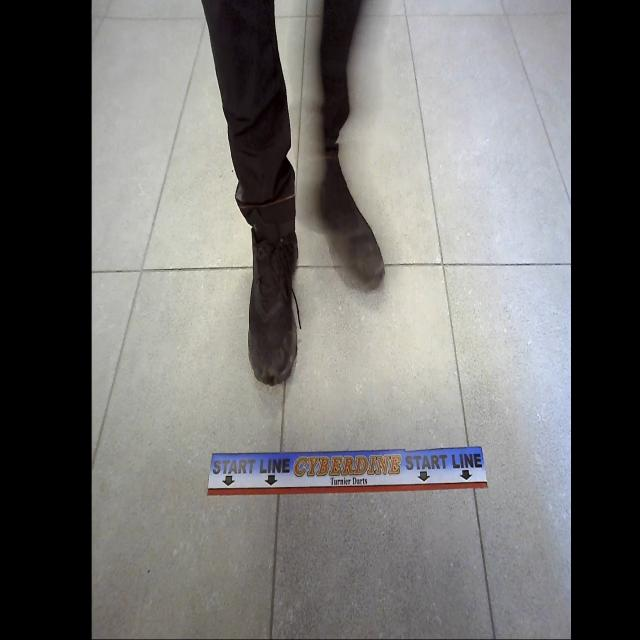foot: (318, 146, 385, 292), (247, 223, 299, 386)
